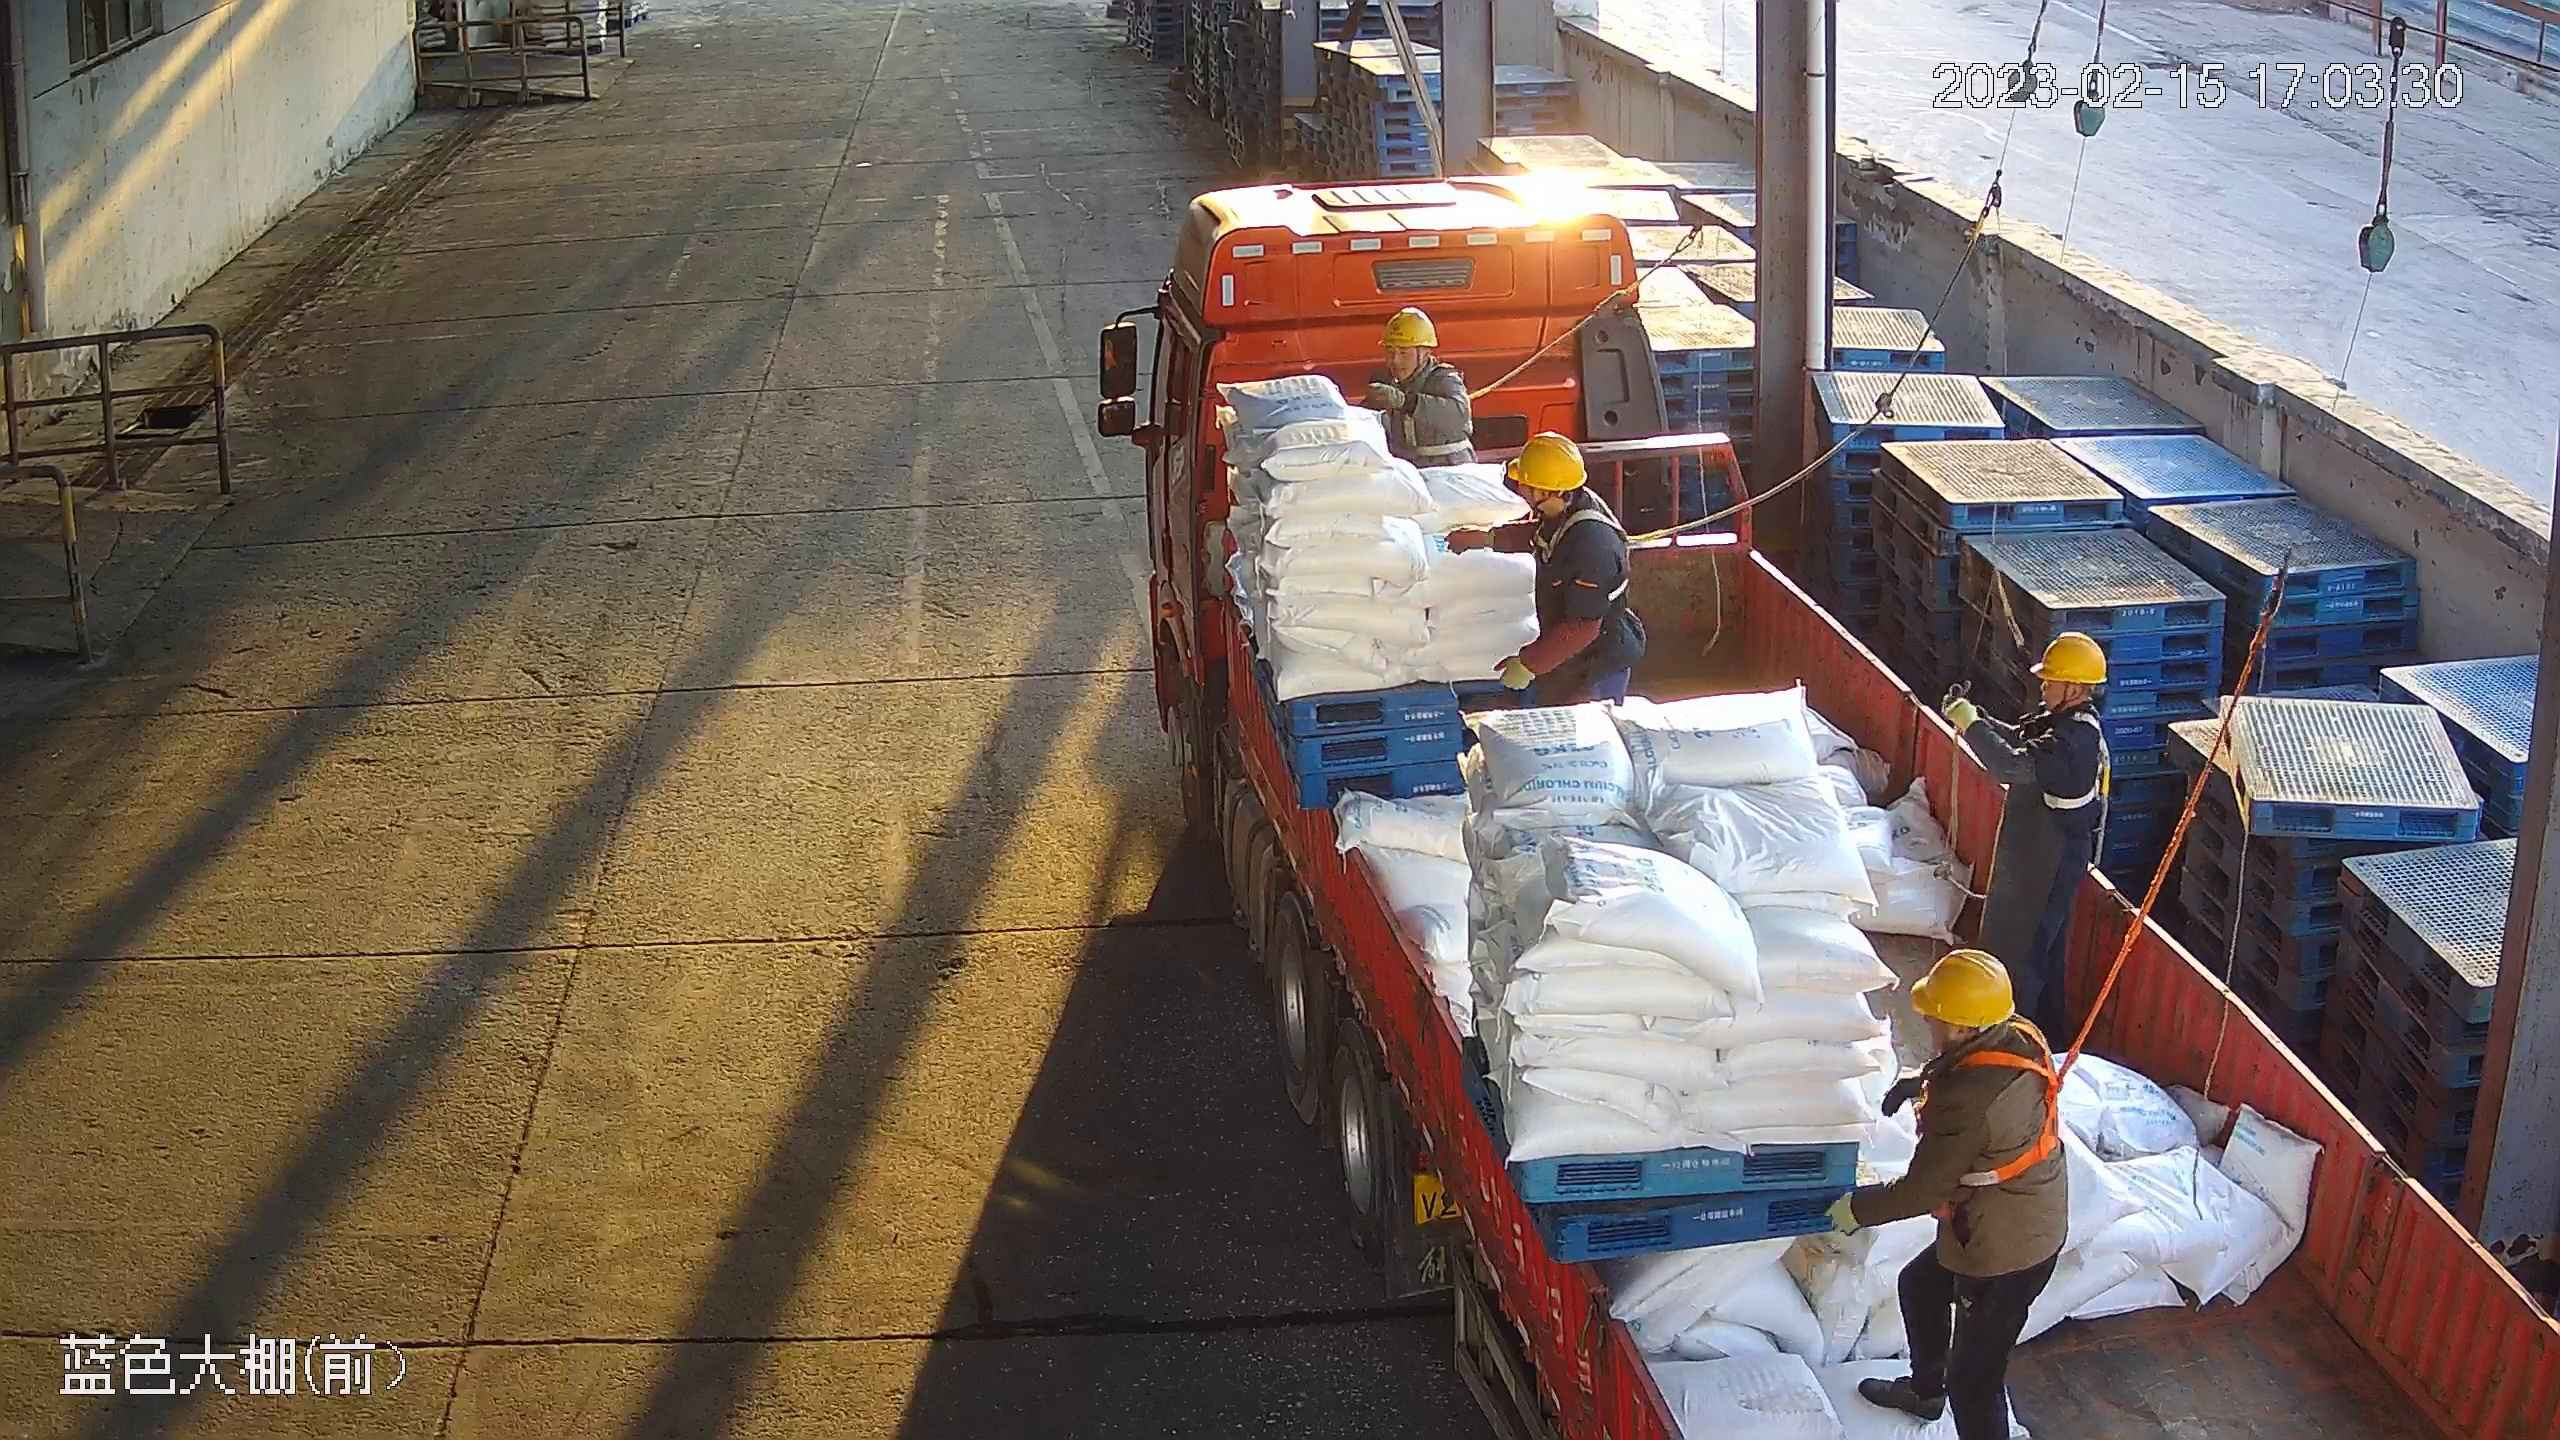belt: (1917, 1045, 2075, 1184), (1530, 503, 1642, 612), (2036, 712, 2116, 819), (1390, 364, 1475, 462)
head: (1855, 949, 2066, 1119), (1940, 623, 2114, 797), (1468, 438, 1648, 575), (1368, 310, 1481, 445)
helmet: (1907, 938, 2018, 1032), (1507, 425, 1594, 497), (2031, 623, 2120, 691), (1385, 304, 1451, 353)
people: (1851, 943, 2072, 1440), (1948, 630, 2131, 1040), (1466, 429, 1646, 717)
truck: (1085, 173, 2560, 1440)
